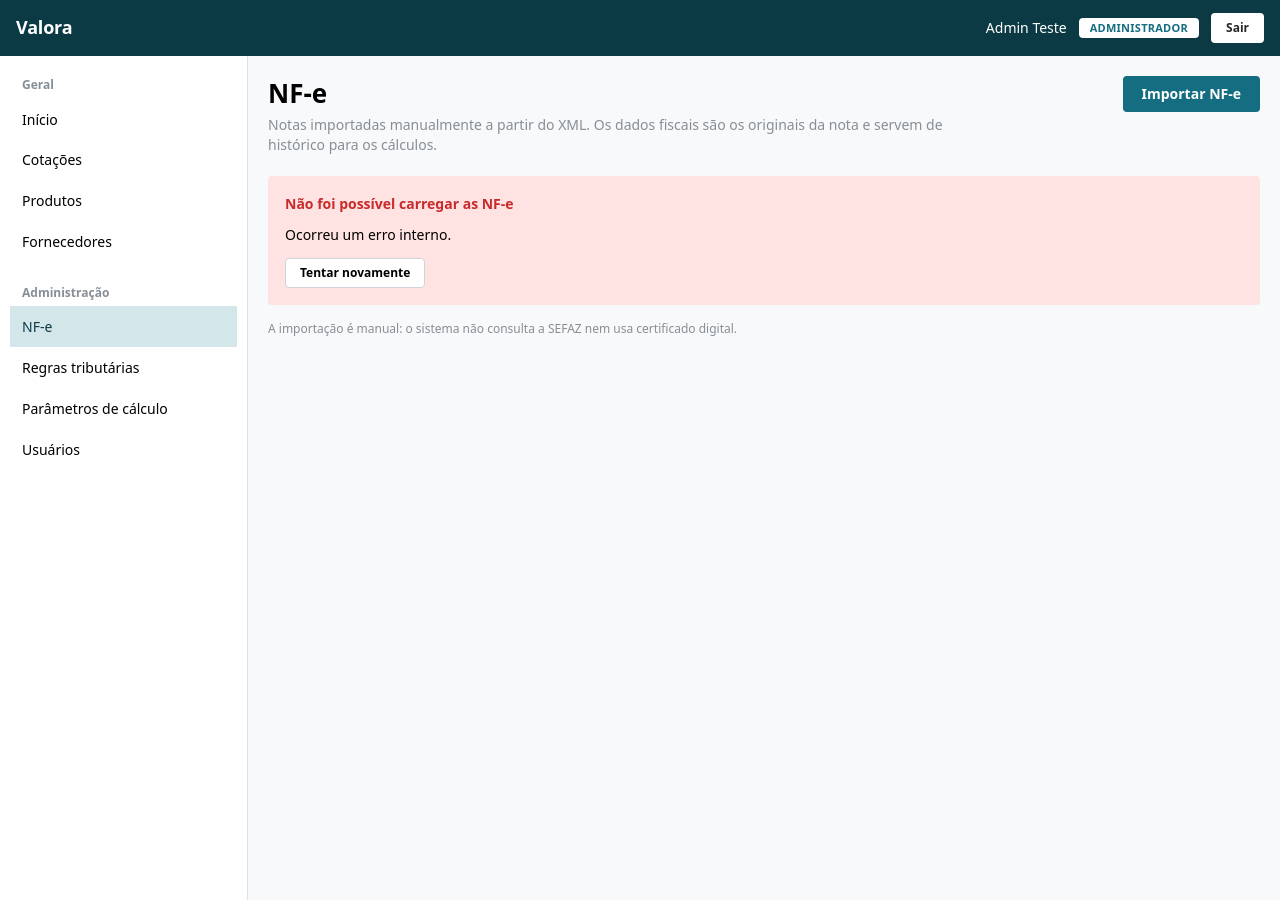
Scenario: NfePage — listagem › mostra o erro da API e permite tentar novamente
The image size is (1280, 900).
Expected: the message shows "Não foi possível carregar as NF-e", 285,194 -> 514,213
Click the button "Tentar novamente". click: (355, 273)
box: 285,258 -> 425,288
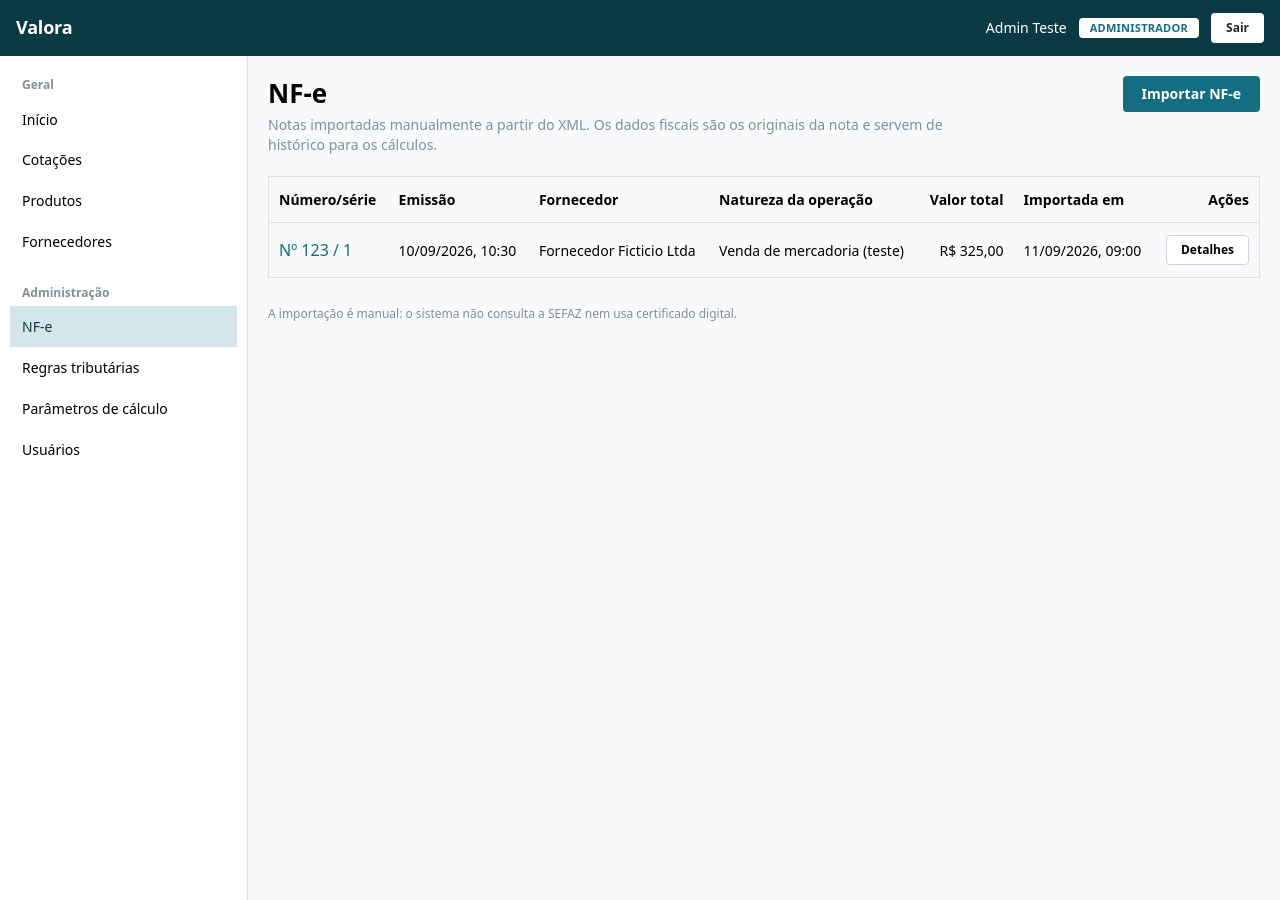
Expected: the table named "NF-e importadas" is shown, 268,176 -> 1260,278
